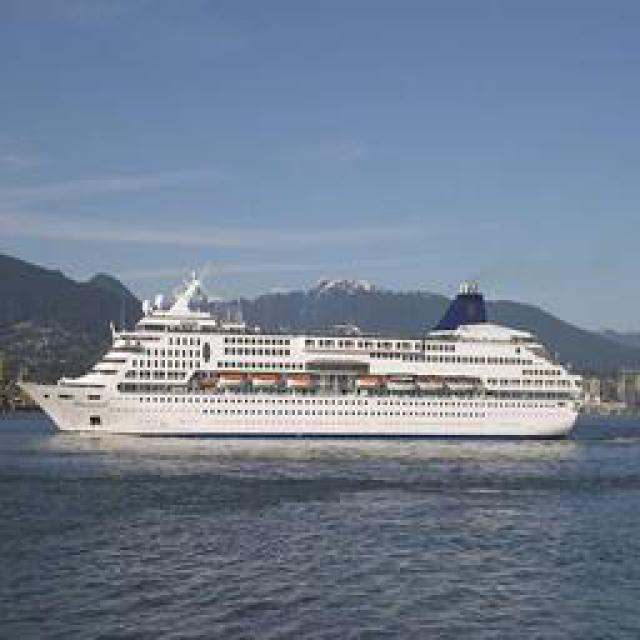Ship: (16, 307, 599, 445)
